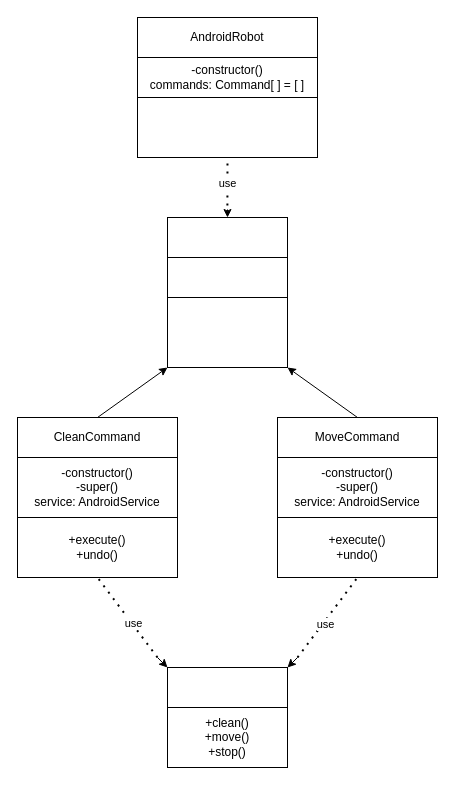
Some shapes in this 455 by 785 pixel diagram are drawn without their labels. The centre of each missing label's shape, as x and y in pixels:
+execute() +undo() +listCommands(): (x=227, y=127)
+toString() +execute() +undo(): (x=227, y=332)
-constructor(): (x=227, y=277)
AndroidService: (x=227, y=687)
Command: (x=227, y=237)
